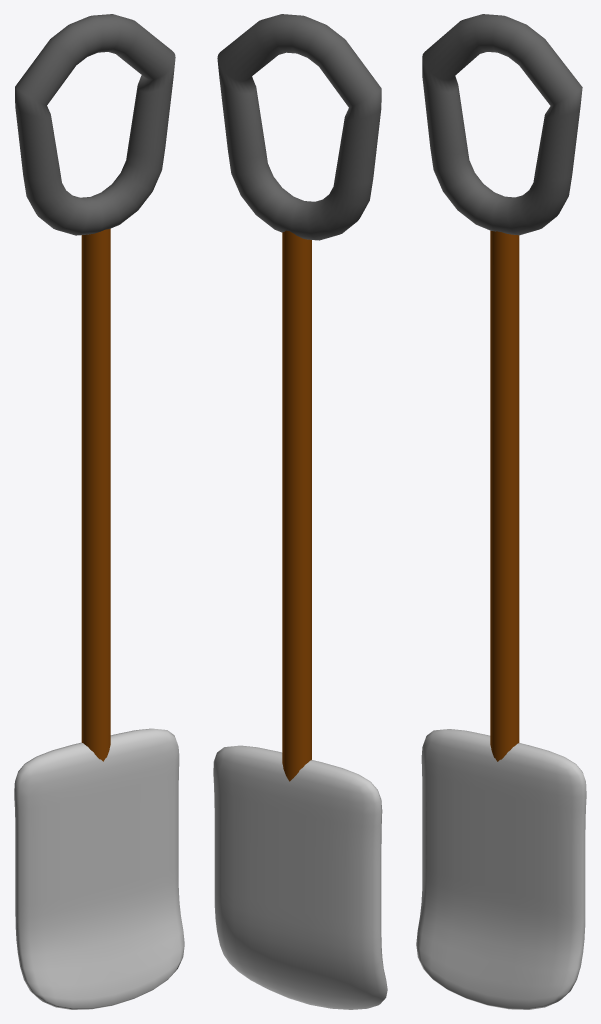
Rendered from shovel.obj.
3 views of the same model, side by side, from view 1: azimuth 30°, elevation 25°; view 2: azimuth 150°, elevation 25°; view 3: azimuth 330°, elevation 25° (orthographic). The views are drawn at different scales.
Parts seen in each view (by area): view 1: polySurface1; view 2: polySurface1; view 3: polySurface1.
Part boxes in pixels (bbox=[...]): polySurface1: bbox=[14, 14, 184, 1009]; polySurface1: bbox=[213, 14, 387, 1009]; polySurface1: bbox=[416, 14, 586, 1009].
Bounding box in the file's own units: 3.65 × 20.81 × 1.01.
